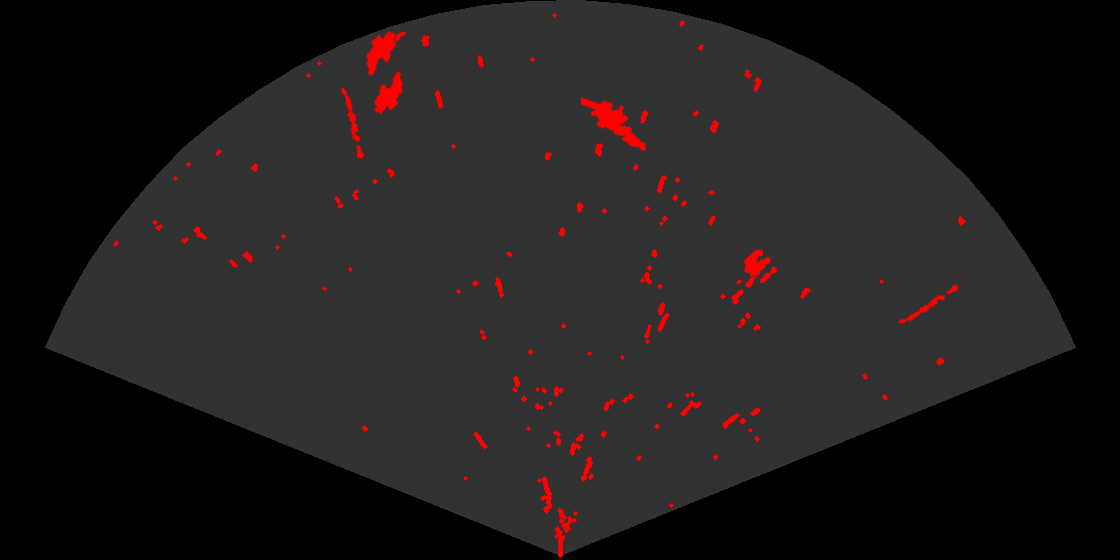AUV: (364, 29, 398, 78), (373, 70, 405, 116)
ball: (743, 248, 779, 285)
chain: (897, 278, 966, 325), (339, 85, 366, 161)
frogman: (581, 96, 648, 153)
